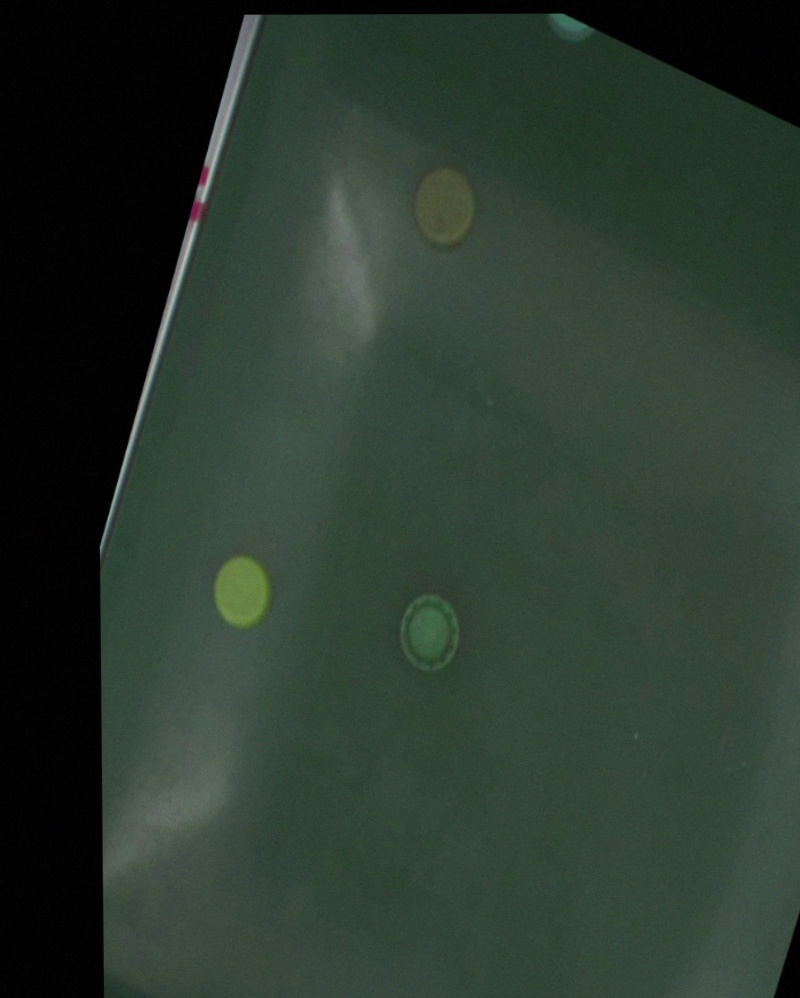Others: (405, 156, 484, 257), (201, 544, 279, 641), (392, 583, 469, 680)
